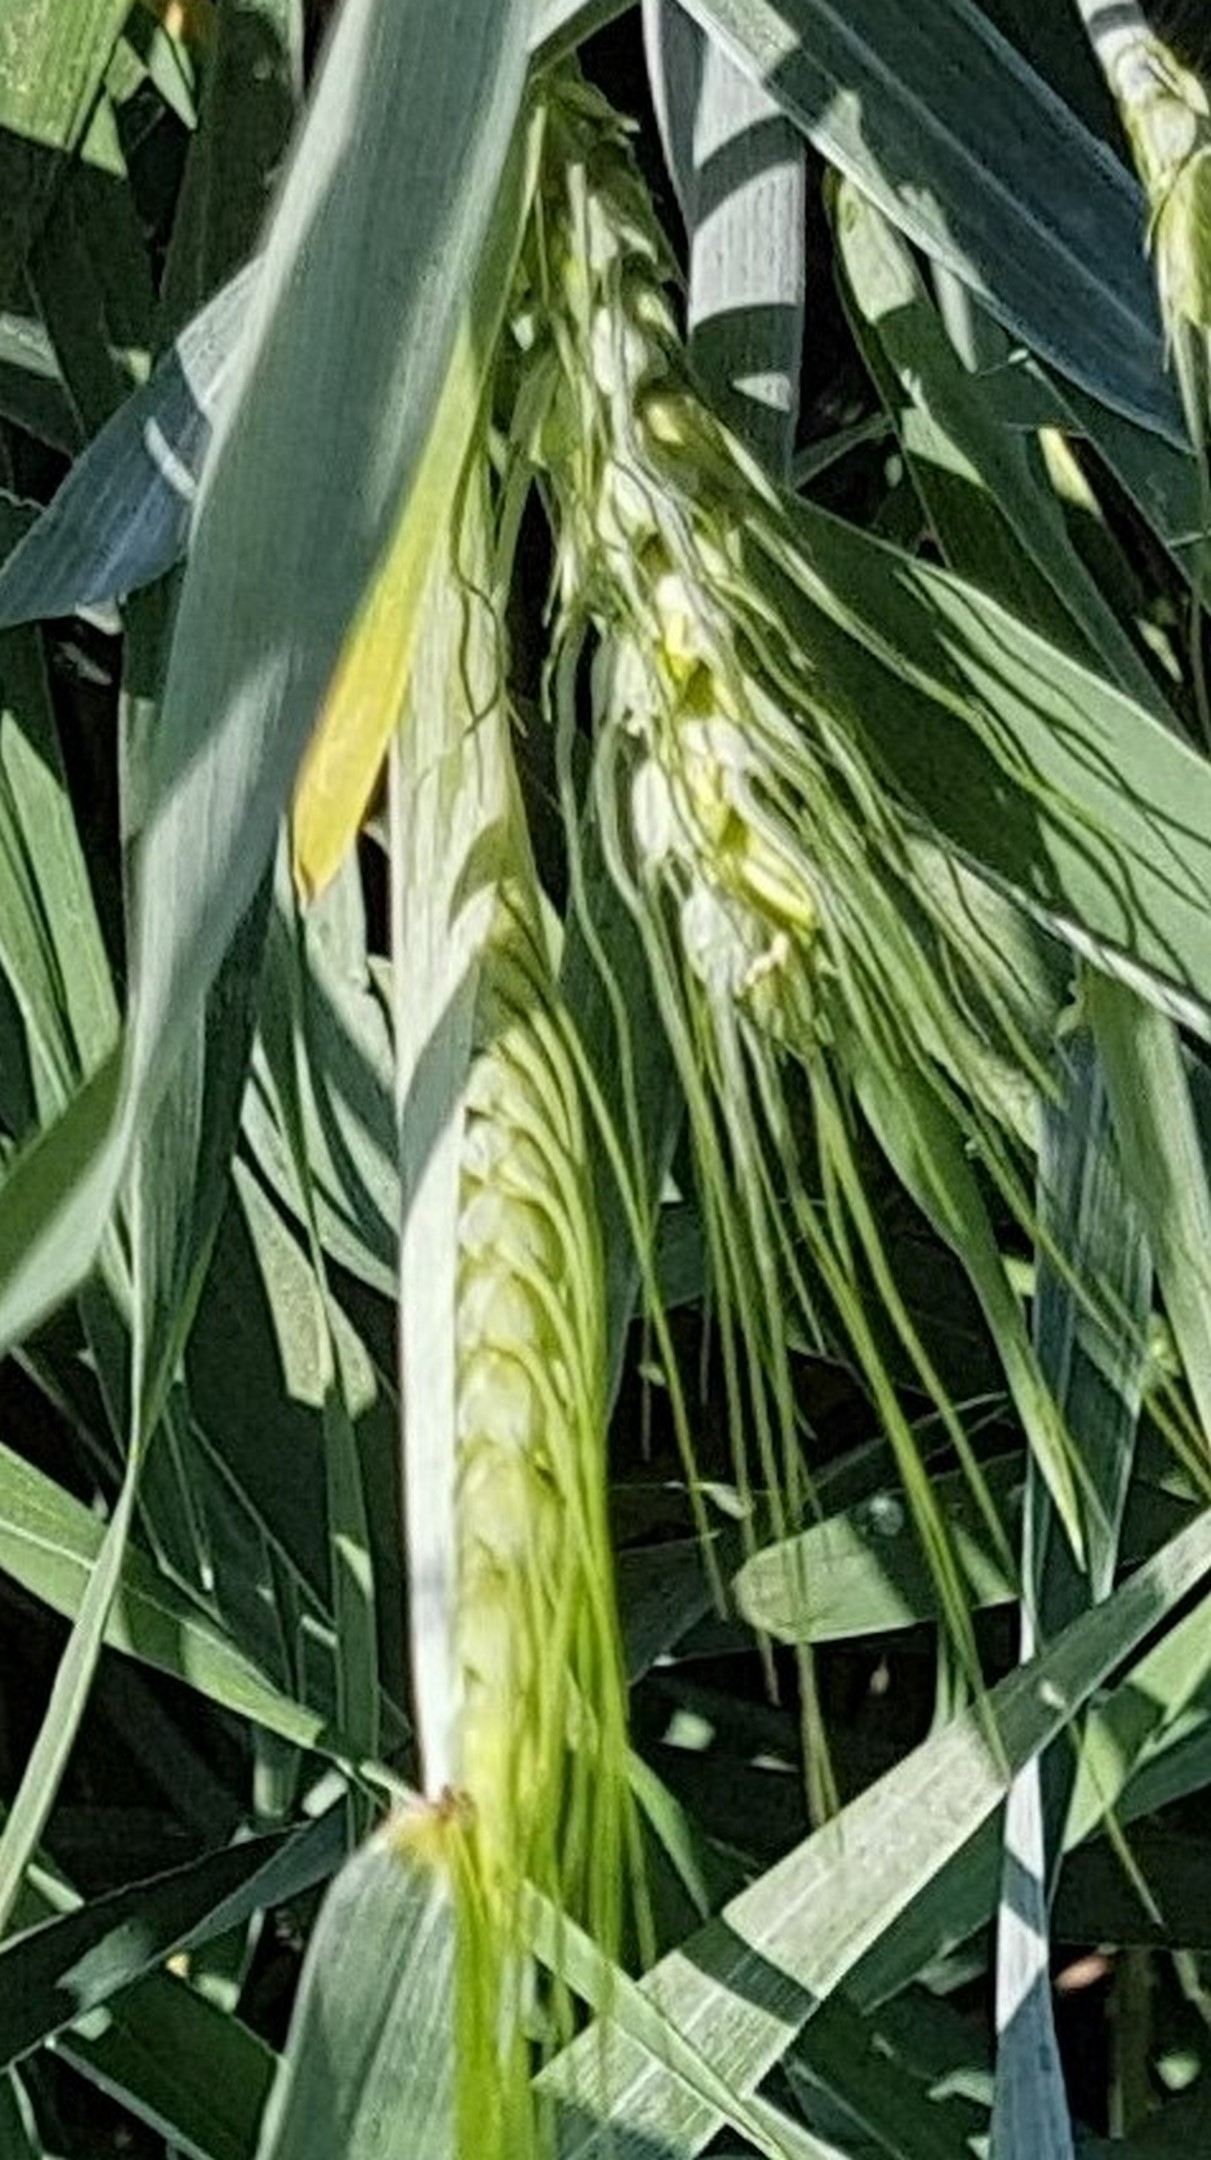Healthy Wheat: (488, 117, 933, 1070)
